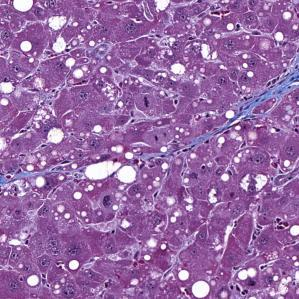fibrosis: (236, 60, 299, 123)
